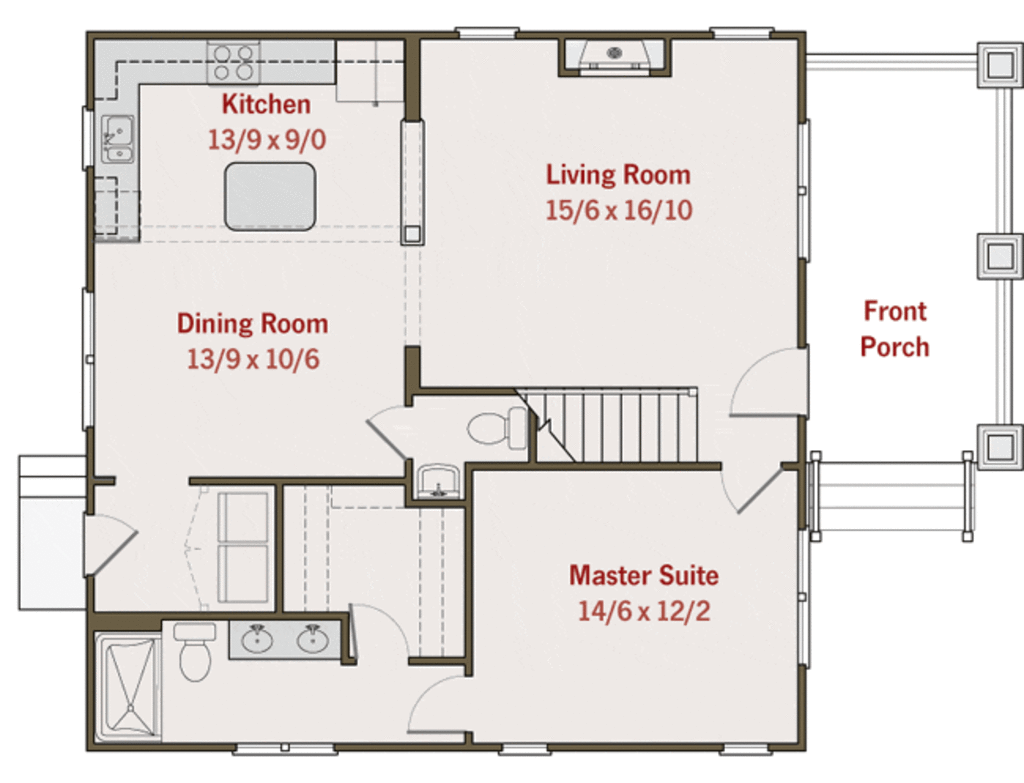door: (724, 346, 809, 418), (348, 599, 413, 665), (83, 513, 138, 581), (405, 674, 467, 734), (721, 463, 784, 515), (361, 404, 408, 454)
kitchen_bar: (95, 39, 342, 98)
large_sink: (458, 401, 529, 463), (165, 621, 218, 694)
sink: (102, 111, 135, 174)
small_sink: (417, 459, 459, 503)
small_sofa: (219, 550, 276, 604), (217, 495, 268, 547)
stairs: (527, 387, 705, 462)
tub: (91, 634, 162, 738)
twin_sink: (226, 618, 344, 663)
window: (77, 289, 97, 430), (797, 113, 811, 260), (799, 529, 806, 664)
